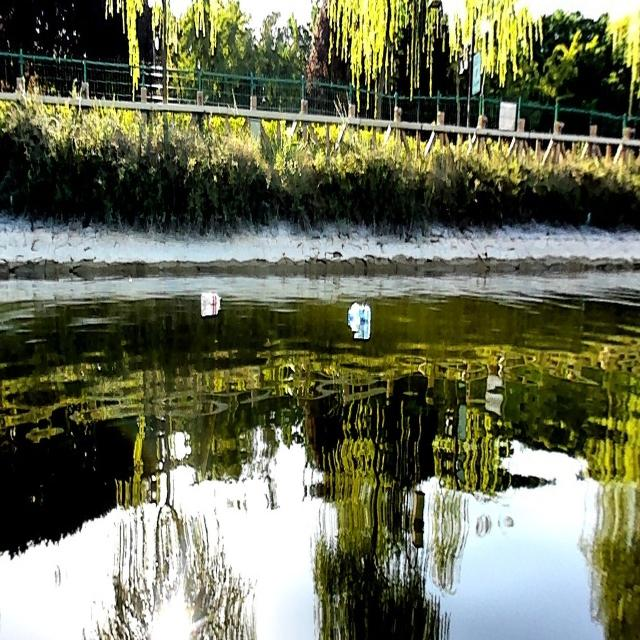bottle: (344, 303, 372, 327), (199, 287, 225, 305)
